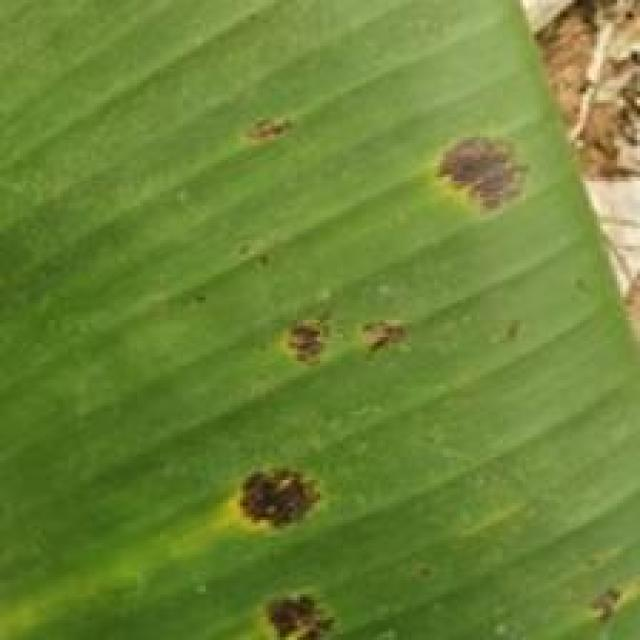Downey_mildrew: (217, 91, 640, 640)
